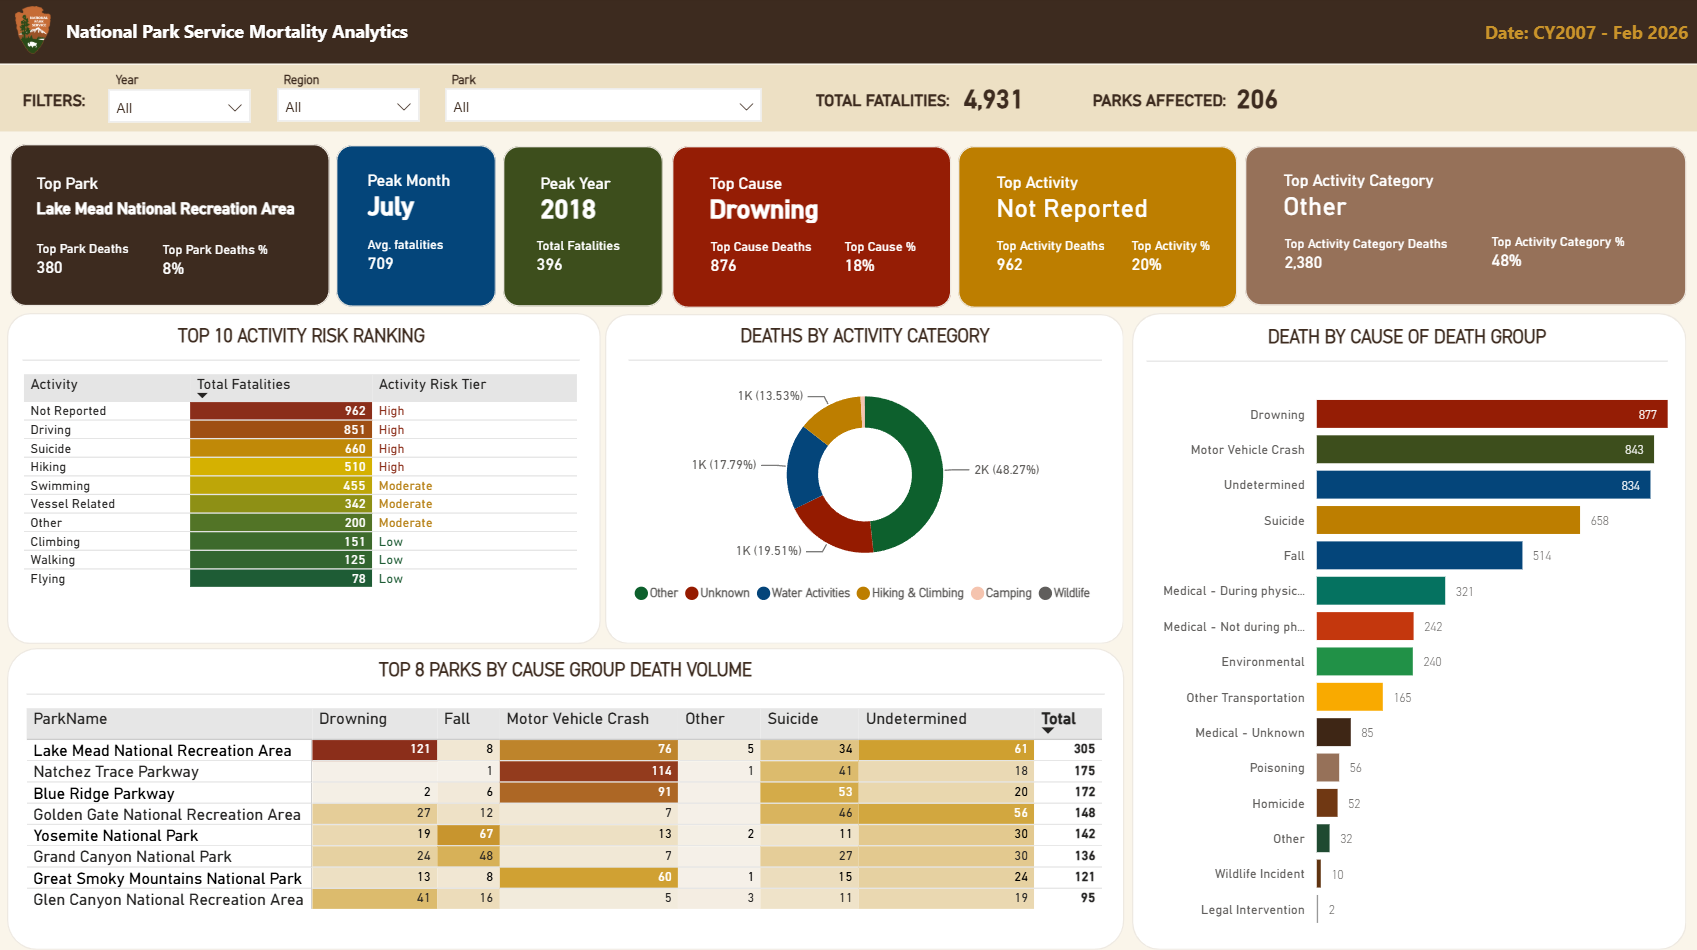

Layout of this report page (visuals, bound fields, positions):
{"tool":"powerbi","page":{"name":" Cause of Death & Incident Type","canvas":[1280,720],"ordinal":1},"visuals":[{"type":"shape","box":[457,238.4,390.5,248.3],"z":0},{"type":"shape","box":[0,50.8,1280,50],"z":1000},{"type":"shape","box":[0,0,1280,83.6],"z":2000},{"type":"shape","box":[0,0,1280.3,50],"z":3000},{"type":"image","box":[6.7,6.7,38.8,36.2],"z":4000},{"type":"textbox","box":[45.9,11.9,279.4,34.4],"z":5000},{"type":"textbox","box":[1113.6,12.6,165.5,44.4],"z":6000},{"type":"slicer","fields":{"Values":["dim_date.Year"]},"box":[73.3,59.2,126.7,50],"z":7000},{"type":"slicer","fields":{"Values":["dim_park.Region"]},"box":[200,58.3,126.7,50],"z":8000},{"type":"slicer","fields":{"Values":["dim_park.ParkName"]},"box":[326.7,58.7,258,50],"z":9000},{"type":"textbox","box":[13.2,63.5,60.1,37.2],"z":11000},{"type":"textbox","box":[83.4,46.4,60.4,34.2],"z":12000},{"type":"textbox","box":[209.6,46.4,60.4,34.2],"z":13000},{"type":"textbox","box":[336.3,46.4,77.7,34.2],"z":14000},{"type":"cardVisual","fields":{"Data":["Sum(fact_incident.DeathCount)"]},"box":[697.1,35.7,120,79.3],"z":16000},{"type":"cardVisual","fields":{"Data":["dim_park.Parks_Affected"]},"box":[902.9,35.7,149.3,79.3],"z":17000},{"type":"shape","box":[7,489.8,840.6,227.3],"z":18000},{"type":"shape","box":[853.1,238.1,417.3,479.4],"z":19000},{"type":"shape","box":[7,237.6,446.7,249.2],"z":20000},{"type":"clusteredBarChart","title":"DEATH BY CAUSE OF DEATH GROUP","fields":{"Y":["Sum(fact_incident.DeathCount)"],"Category":["dim_cause.CauseOfDeathGroup"]},"box":[859.3,247.3,402,464],"z":21000},{"type":"pivotTable","title":"TOP 8 PARKS BY CAUSE GROUP DEATH VOLUME","fields":{"Rows":["dim_park.ParkName"],"Columns":["dim_cause.CauseOfDeathGroup"],"Values":["Sum(fact_incident.DeathCount)"]},"box":[16.4,497.9,820.7,222.1],"z":22000},{"type":"donutChart","title":"DEATHS BY ACTIVITY CATEGORY","fields":{"Category":["dim_activity.ActivityCategory"],"Y":["Sum(fact_incident.DeathCount)"]},"box":[469.5,246.9,365.6,218.8],"z":23000},{"type":"textbox","box":[610,63.6,122.9,37.1],"z":24000},{"type":"textbox","box":[818.6,63.6,126.4,37.1],"z":25000},{"type":"tableEx","title":"TOP 10 ACTIVITY RISK RANKING","fields":{"Values":["dim_activity.Activity","fact_incident.Total Fatalities","dim_activity.Activity Risk Tier"]},"box":[13.6,247.1,429.3,230.7],"z":26000},{"type":"shape","box":[254.4,111.1,120.5,121.8],"z":27000},{"type":"shape","box":[379.8,112.4,120.5,120.8],"z":28000},{"type":"shape","box":[506.8,112.5,210.2,121.8],"z":29000},{"type":"shape","box":[9.1,110.9,240.6,122.1],"z":30000},{"type":"cardVisual","fields":{"Data":["fact_incident.Peak Year"]},"box":[379.3,112.2,121.3,79.9],"z":31000},{"type":"cardVisual","fields":{"Data":["fact_incident.Peak Month"]},"box":[249.4,109.8,130.5,79.3],"z":32000},{"type":"cardVisual","fields":{"Data":["fact_incident.Top Cause"]},"box":[506.7,112.2,144.5,79.3],"z":33000},{"type":"cardVisual","fields":{"Data":["fact_incident.Top Cause Deaths"]},"box":[506.8,154.9,155.7,79.3],"z":34000},{"type":"cardVisual","fields":{"Data":["fact_incident.Top Cause %"]},"box":[608.3,154.9,155.7,79.3],"z":35000},{"type":"cardVisual","fields":{"Data":["fact_incident.Peak Month Avg Fatalities"]},"box":[248.8,153.8,155.5,79.5],"z":36000},{"type":"cardVisual","fields":{"Data":["fact_incident.Peak Year Fatalities"]},"box":[375.9,154.4,193.2,79.2],"z":37000},{"type":"cardVisual","fields":{"Data":["dim_park.Top Park Deaths %"]},"box":[95.1,157.3,155.5,79.3],"z":38000},{"type":"cardVisual","fields":{"Data":["dim_park.Top Park Name"]},"box":[0,111,275.6,76.2],"z":39000},{"type":"cardVisual","fields":{"Data":["dim_park.Top Park Deaths"]},"box":[0,156.7,156.1,79.3],"z":40000},{"type":"shape","box":[722.5,111.7,210.2,121.8],"z":41000},{"type":"cardVisual","fields":{"Data":["dim_activity.Top Activity"]},"box":[722.1,111.4,188.6,79.3],"z":42000},{"type":"cardVisual","fields":{"Data":["dim_activity.Top Activity Fatalities"]},"box":[722.5,154.2,155.7,79.3],"z":43000},{"type":"cardVisual","fields":{"Data":["dim_activity.Top Activity %"]},"box":[824,154.2,155.7,79.3],"z":44000},{"type":"shape","box":[937.9,112.1,332.1,120],"z":45000},{"type":"cardVisual","fields":{"Data":["dim_activity.Top Activity Category"]},"box":[937.9,110,247.9,79.3],"z":46000},{"type":"cardVisual","fields":{"Data":["dim_activity.Top Activity Category Fatalities"]},"box":[938.6,152.9,195,79.3],"z":47000},{"type":"cardVisual","fields":{"Data":["dim_activity.Top Activity Category %"]},"box":[1095,151.4,175,79.3],"z":48000}]}

Visuals, with their boxes in screenshot pixels (x1, y1, x2, y2), scaled from the page's 1280x720 canvas onto the 1697x950 screenshot:
shape: <box>606,315,1124,642</box>
shape: <box>0,67,1696,133</box>
shape: <box>0,0,1696,110</box>
shape: <box>0,0,1696,66</box>
image: <box>9,9,60,57</box>
textbox: <box>61,16,431,61</box>
textbox: <box>1476,17,1696,75</box>
slicer - dim_date.Year: <box>97,78,265,144</box>
slicer - dim_park.Region: <box>265,77,433,143</box>
slicer - dim_park.ParkName: <box>433,77,775,143</box>
textbox: <box>18,84,97,133</box>
textbox: <box>111,61,191,106</box>
textbox: <box>278,61,358,106</box>
textbox: <box>446,61,549,106</box>
cardVisual - Sum(fact_incident.DeathCount): <box>924,47,1083,152</box>
cardVisual - dim_park.Parks_Affected: <box>1197,47,1395,152</box>
shape: <box>9,646,1124,946</box>
shape: <box>1131,314,1684,947</box>
shape: <box>9,314,602,642</box>
"DEATH BY CAUSE OF DEATH GROUP" clusteredBarChart: <box>1139,326,1672,939</box>
"TOP 8 PARKS BY CAUSE GROUP DEATH VOLUME" pivotTable: <box>22,657,1110,949</box>
"DEATHS BY ACTIVITY CATEGORY" donutChart: <box>622,326,1107,614</box>
textbox: <box>809,84,972,133</box>
textbox: <box>1085,84,1253,133</box>
"TOP 10 ACTIVITY RISK RANKING" tableEx: <box>18,326,587,630</box>
shape: <box>337,147,497,307</box>
shape: <box>504,148,663,308</box>
shape: <box>672,148,951,309</box>
shape: <box>12,146,331,307</box>
cardVisual - fact_incident.Peak Year: <box>503,148,664,253</box>
cardVisual - fact_incident.Peak Month: <box>331,145,504,250</box>
cardVisual - fact_incident.Top Cause: <box>672,148,863,253</box>
cardVisual - fact_incident.Top Cause Deaths: <box>672,204,878,309</box>
cardVisual - fact_incident.Top Cause %: <box>806,204,1013,309</box>
cardVisual - fact_incident.Peak Month Avg Fatalities: <box>330,203,536,308</box>
cardVisual - fact_incident.Peak Year Fatalities: <box>498,204,755,308</box>
cardVisual - dim_park.Top Park Deaths %: <box>126,208,332,312</box>
cardVisual - dim_park.Top Park Name: <box>0,146,365,247</box>
cardVisual - dim_park.Top Park Deaths: <box>0,207,207,311</box>
shape: <box>958,147,1237,308</box>
cardVisual - dim_activity.Top Activity: <box>957,147,1207,252</box>
cardVisual - dim_activity.Top Activity Fatalities: <box>958,203,1164,308</box>
cardVisual - dim_activity.Top Activity %: <box>1092,203,1299,308</box>
shape: <box>1243,148,1684,306</box>
cardVisual - dim_activity.Top Activity Category: <box>1243,145,1572,250</box>
cardVisual - dim_activity.Top Activity Category Fatalities: <box>1244,202,1503,306</box>
cardVisual - dim_activity.Top Activity Category %: <box>1452,200,1684,304</box>
